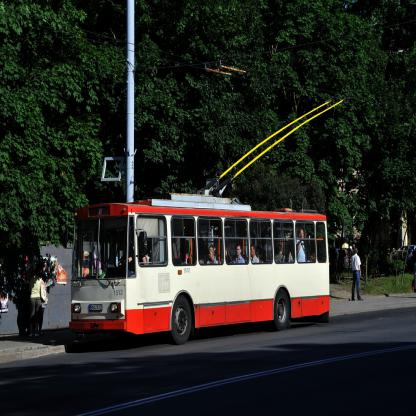Bus: (67, 194, 331, 344)
